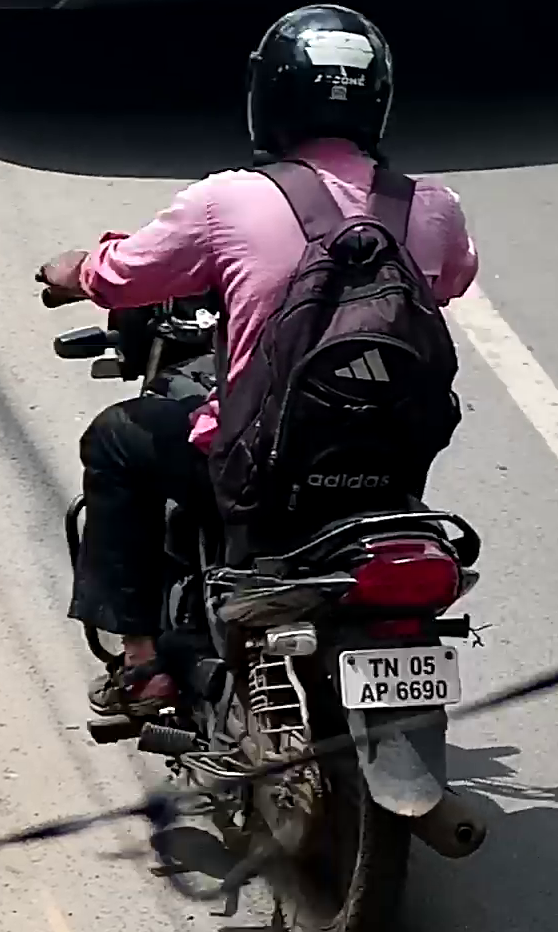0: (435, 679, 448, 699), (410, 655, 422, 676)
5: (422, 655, 436, 676)
6: (395, 680, 409, 701), (409, 679, 422, 700)
9: (422, 679, 434, 701)
A: (360, 682, 375, 703)
N: (384, 656, 399, 678)
P: (375, 681, 389, 703)
P16: (338, 644, 462, 712)
T: (367, 657, 383, 678)
